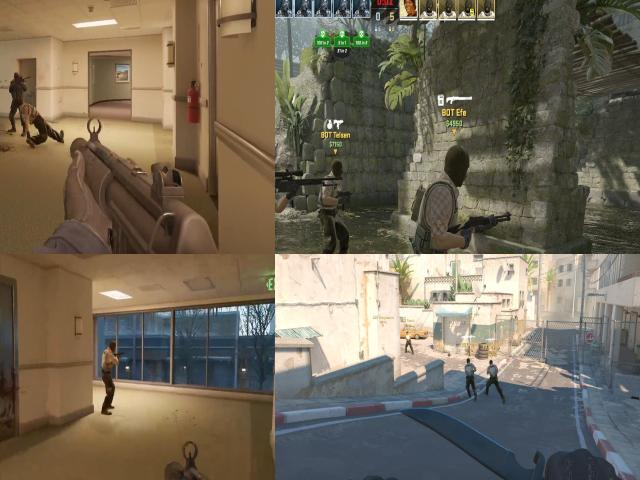Bomb: (405, 179, 429, 232)
CT: (9, 70, 25, 126)
CT-Head: (14, 71, 22, 84)
Dead: (14, 96, 63, 150)
T: (408, 134, 482, 254), (314, 152, 354, 254), (100, 339, 120, 382), (485, 360, 505, 402), (464, 358, 476, 402), (405, 332, 414, 355)
T-Head: (440, 138, 476, 190), (328, 159, 346, 178), (106, 338, 118, 354), (466, 358, 470, 363), (490, 360, 492, 364), (406, 332, 408, 334)
